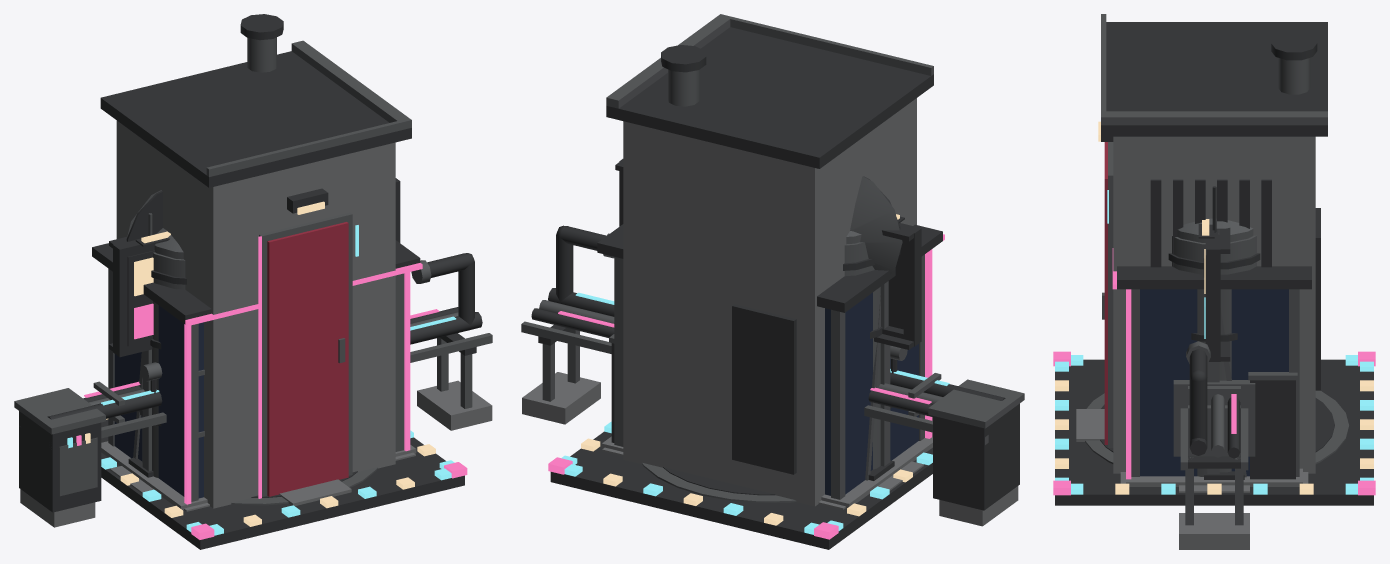
File: roof268.glb
3 views of the same model, side by side, from view 1: azimuth 30°, elevation 25°; view 2: azimuth 150°, elevation 25°; view 3: azimuth 270°, elevation 25° (orthographic). The views are drawn at different scales.
Parts seen in each view (by area): view 1: r268-hatch-r167-concrete, r268-hatch-r167-dark, r268-hatch-r268-crimson, r268-hatch-r167-metal, r268-rack-r167-dark, r268-pad-r167-dark, r268-rack-r167-metal, r268-kiosk-r167-panel, r268-kiosk-r167-metal, r268-frame-r167-dark, r268-kiosk-r268-pink, r268-rack-r167-concrete (+13 smaller); view 2: r268-hatch-r167-concrete, r268-hatch-r167-dark, r268-rack-r167-dark, r268-pad-r167-dark, r268-rack-r167-metal, r268-kiosk-r167-panel, r268-kiosk-r167-metal, r268-hatch-r167-metal, r268-frame-r167-dark, r268-rack-r167-concrete, r268-farm-r167-metal, r268-kiosk-r167-dark (+9 smaller); view 3: r268-hatch-r167-dark, r268-hatch-r167-concrete, r268-pad-r167-dark, r268-kiosk-r167-panel, r268-hatch-r167-metal, r268-farm-r167-dark, r268-kiosk-r167-dark, r268-coolant-r167-metal, r268-rack-r167-metal, r268-rack-r167-dark, r268-frame-r167-dark, r268-kiosk-r167-metal (+13 smaller).
Boxes of the visible parts, box(x1,y1,x2,y2) form: r268-hatch-r167-concrete: box(116, 120, 395, 508); r268-hatch-r167-dark: box(100, 14, 411, 213); r268-hatch-r268-crimson: box(267, 222, 348, 496); r268-hatch-r167-metal: box(206, 37, 411, 496); r268-rack-r167-dark: box(19, 253, 482, 512); r268-pad-r167-dark: box(101, 419, 464, 549); r268-rack-r167-metal: box(14, 260, 492, 496); r268-kiosk-r167-panel: box(114, 305, 203, 498); r268-kiosk-r167-metal: box(108, 268, 404, 501); r268-frame-r167-dark: box(109, 178, 400, 477); r268-kiosk-r268-pink: box(184, 263, 422, 504); r268-rack-r167-concrete: box(20, 380, 492, 527); r268-hatch-r167-concrete: box(623, 98, 916, 506); r268-hatch-r167-dark: box(606, 27, 933, 474); r268-rack-r167-dark: box(531, 225, 1019, 510); r268-pad-r167-dark: box(550, 417, 932, 549); r268-rack-r167-metal: box(521, 233, 1024, 444); r268-kiosk-r167-panel: box(825, 292, 918, 495); r268-kiosk-r167-metal: box(614, 254, 924, 499); r268-hatch-r167-metal: box(606, 14, 933, 108); r268-frame-r167-dark: box(615, 159, 921, 480); r268-rack-r167-concrete: box(522, 372, 1018, 526); r268-farm-r167-metal: box(609, 176, 902, 343); r268-kiosk-r167-dark: box(597, 224, 942, 312); r268-hatch-r167-dark: box(1101, 22, 1327, 390); r268-hatch-r167-concrete: box(1076, 136, 1315, 473); r268-pad-r167-dark: box(1055, 359, 1373, 505); r268-kiosk-r167-panel: box(1140, 289, 1288, 476); r268-hatch-r167-metal: box(1101, 14, 1327, 447); r268-farm-r167-dark: box(1250, 380, 1295, 479); r268-kiosk-r167-dark: box(1117, 266, 1311, 289); r268-coolant-r167-metal: box(1172, 218, 1256, 476); r268-rack-r167-metal: box(1180, 341, 1248, 525); r268-rack-r167-dark: box(1188, 349, 1240, 468); r268-frame-r167-dark: box(1198, 186, 1244, 479); r268-kiosk-r167-metal: box(1131, 289, 1299, 476).
Size of the model in its own units: 3.02 by 2.6 by 1.82.
